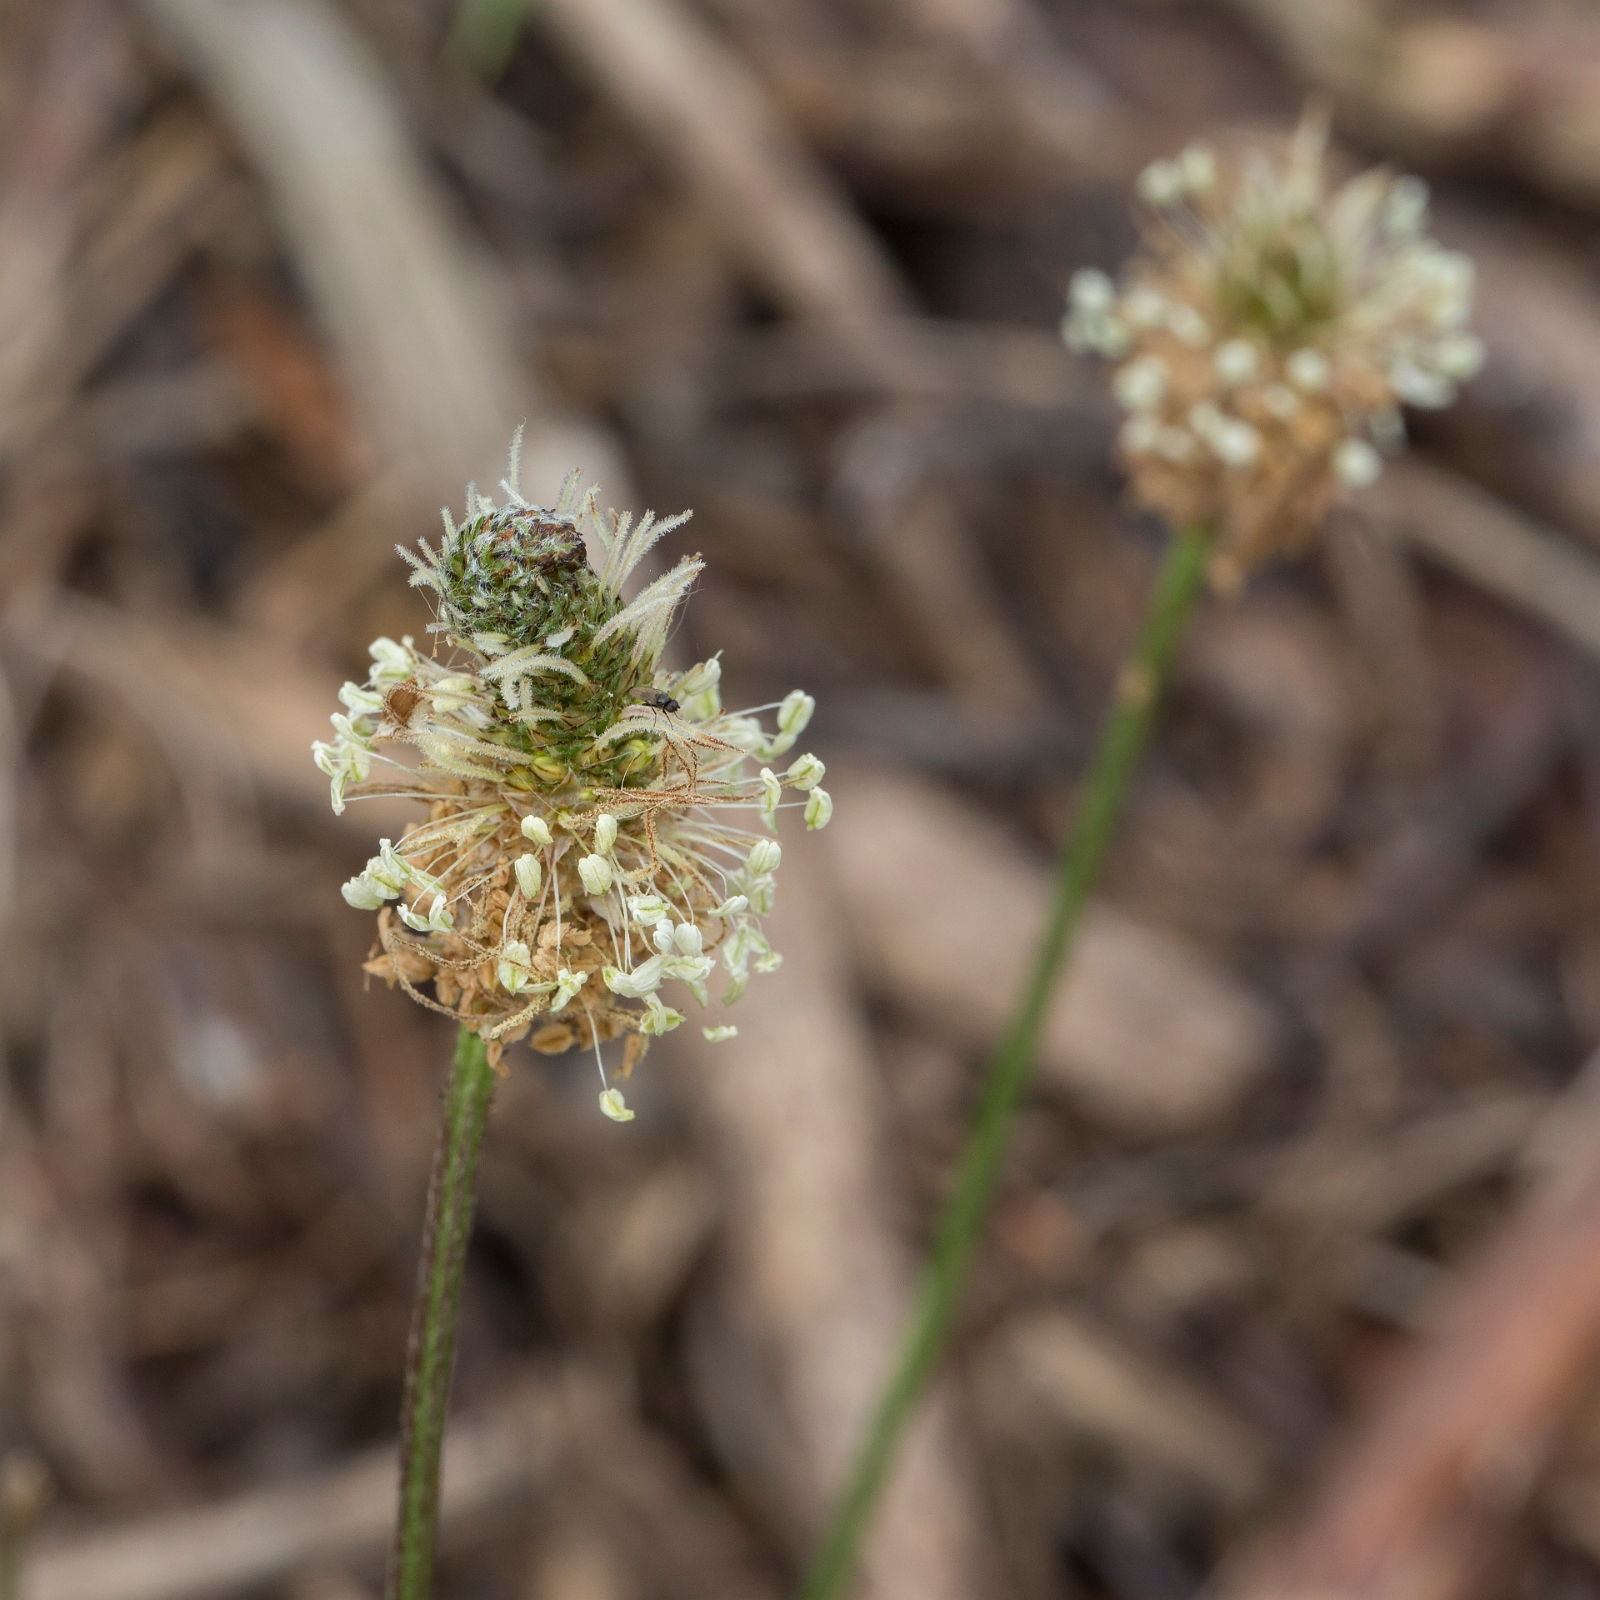buckhorn plantain: (259, 388, 791, 1386), (1032, 85, 1429, 1071)
